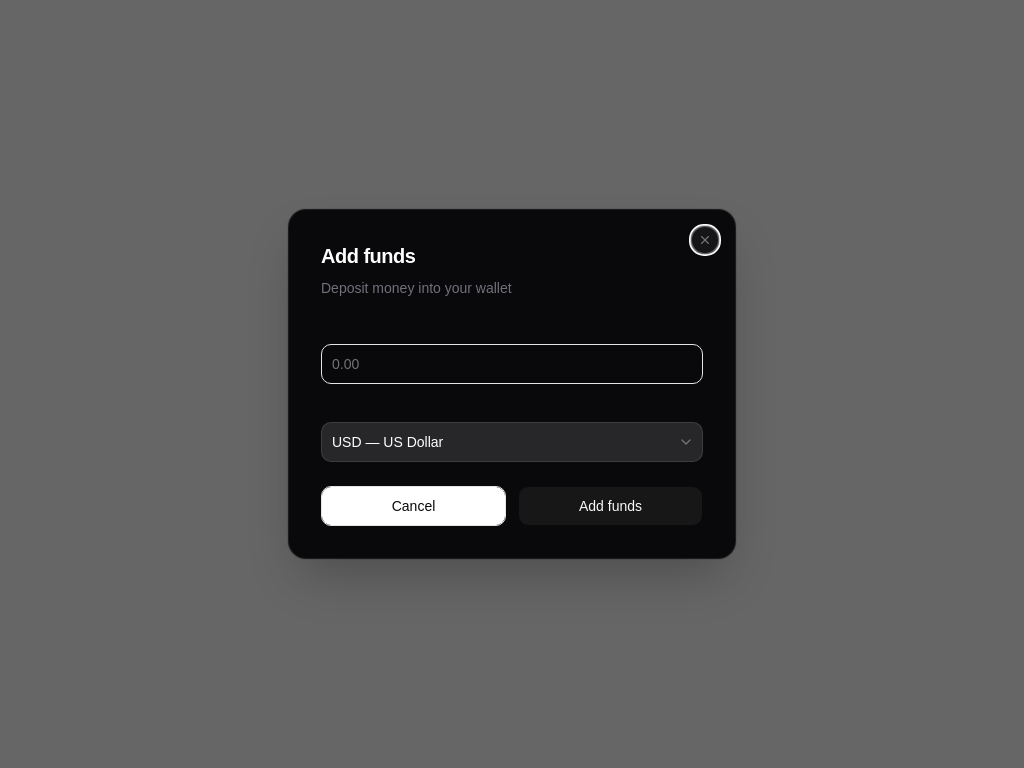
Test case: AddFundsModal — form validation › shows error when amount is not a valid number
Type "abc" into the field labelled "Amount".
click(512, 364); type("abc")  # box x1=321 y1=344 x2=703 y2=384
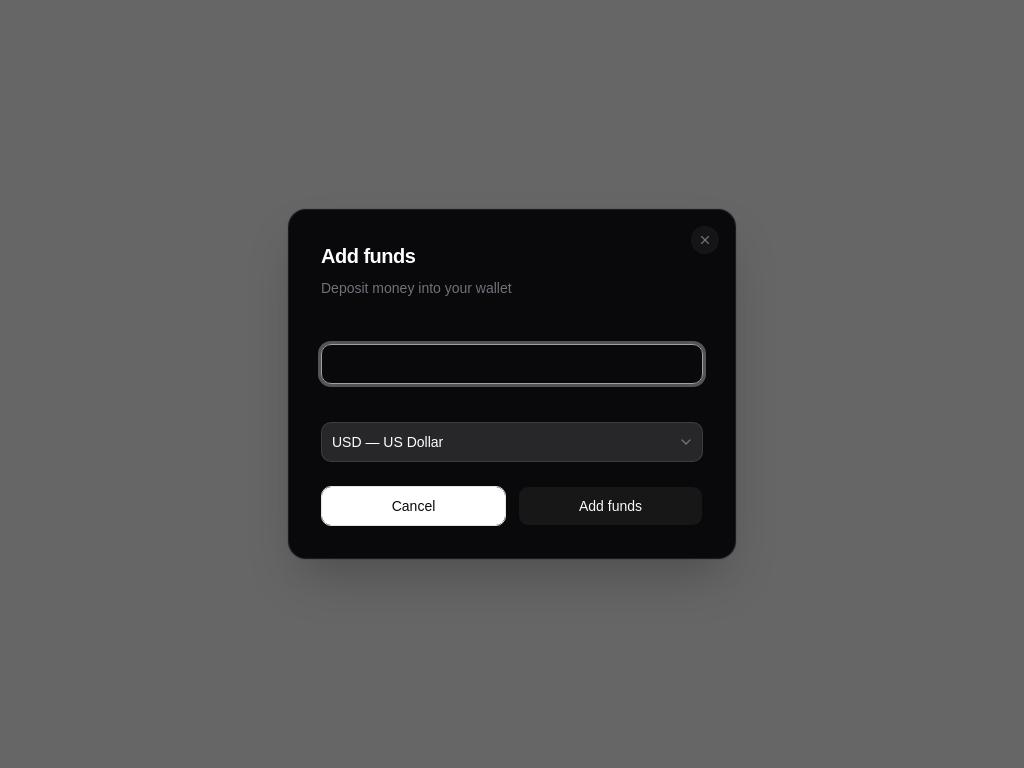
Click the button "Add funds".
click(610, 506)  # box x1=518 y1=486 x2=703 y2=526
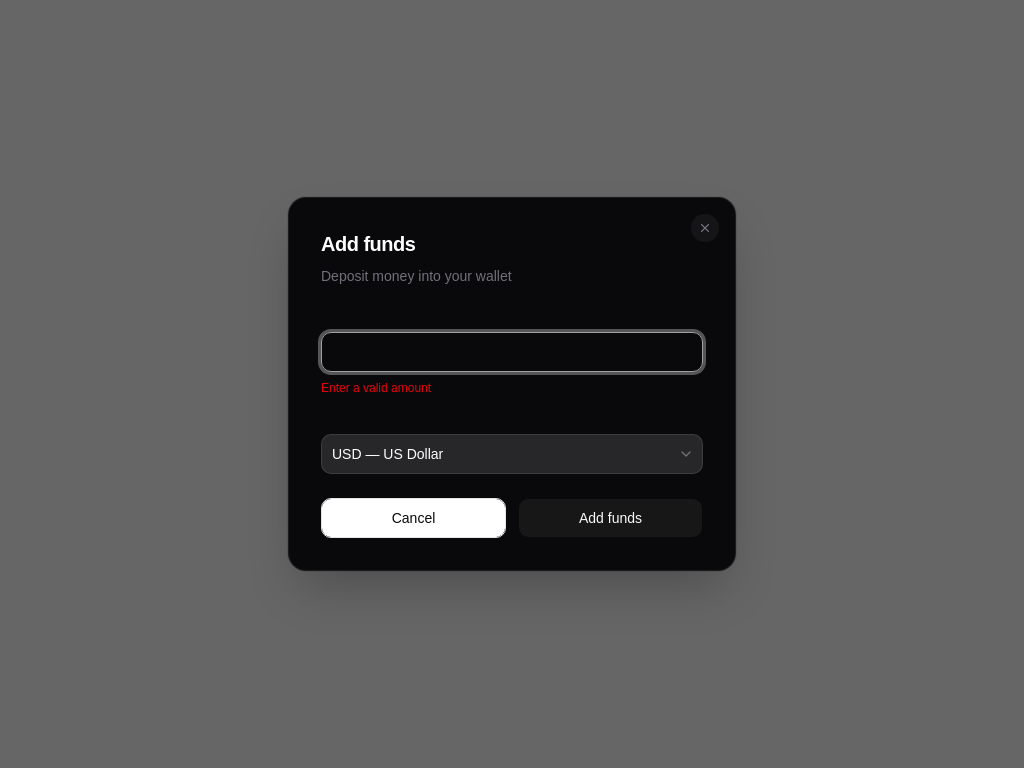
Result: the text "Enter a valid amount" is shown at x1=321 y1=381 x2=431 y2=395
